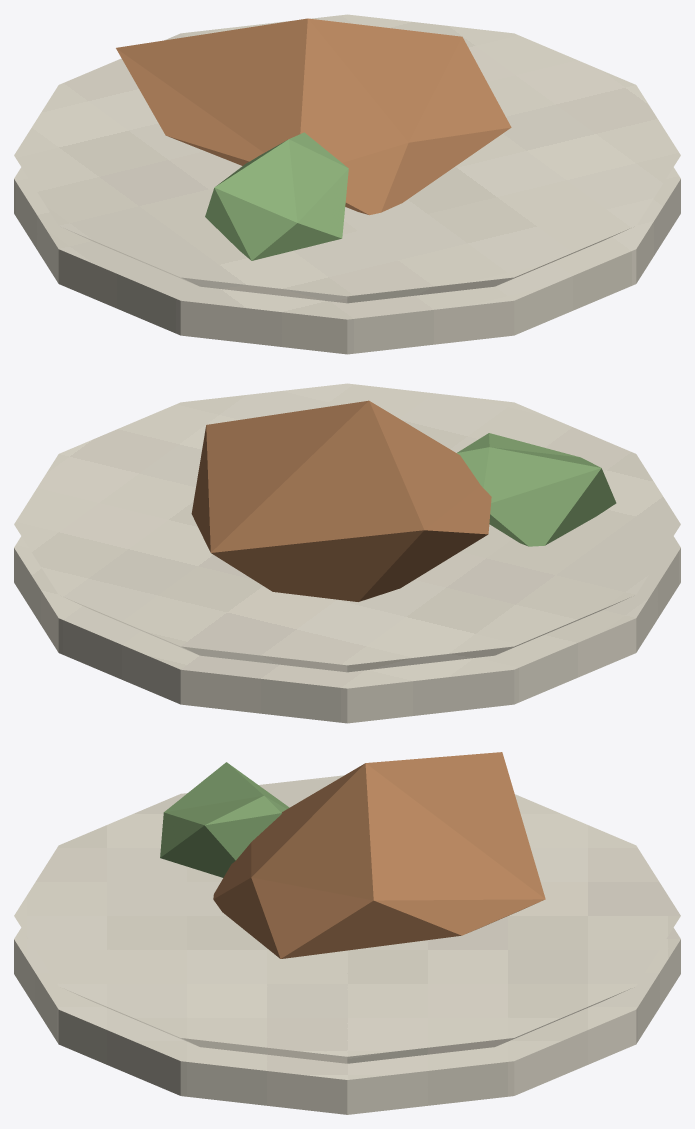
Rendered from plate_food.glb.
3 views of the same model, one above another, from view 1: azimuth 30°, elevation 25°; view 2: azimuth 150°, elevation 25°; view 3: azimuth 270°, elevation 25° (orthographic).
Visible parts, largest first — view 1: plate_food; view 2: plate_food; view 3: plate_food.
Boxes of the visible parts, left/top/right/bottom form: plate_food: left=14, top=14, right=680, bottom=354; plate_food: left=14, top=383, right=680, bottom=723; plate_food: left=14, top=752, right=680, bottom=1114.
Size of the model in its own units: 0.26 by 0.0843 by 0.26.
Materials: 3 (1 with a texture image).
